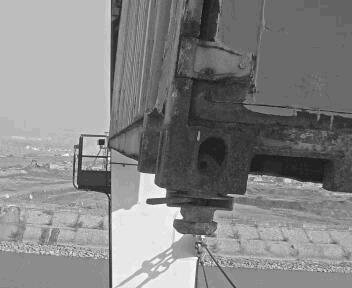twist_lock_1: (157, 188, 242, 242)
